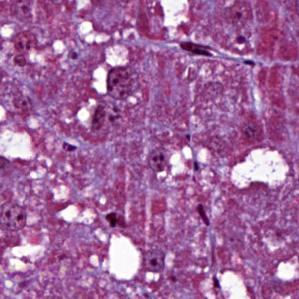inflammation: (100, 206, 124, 233)
